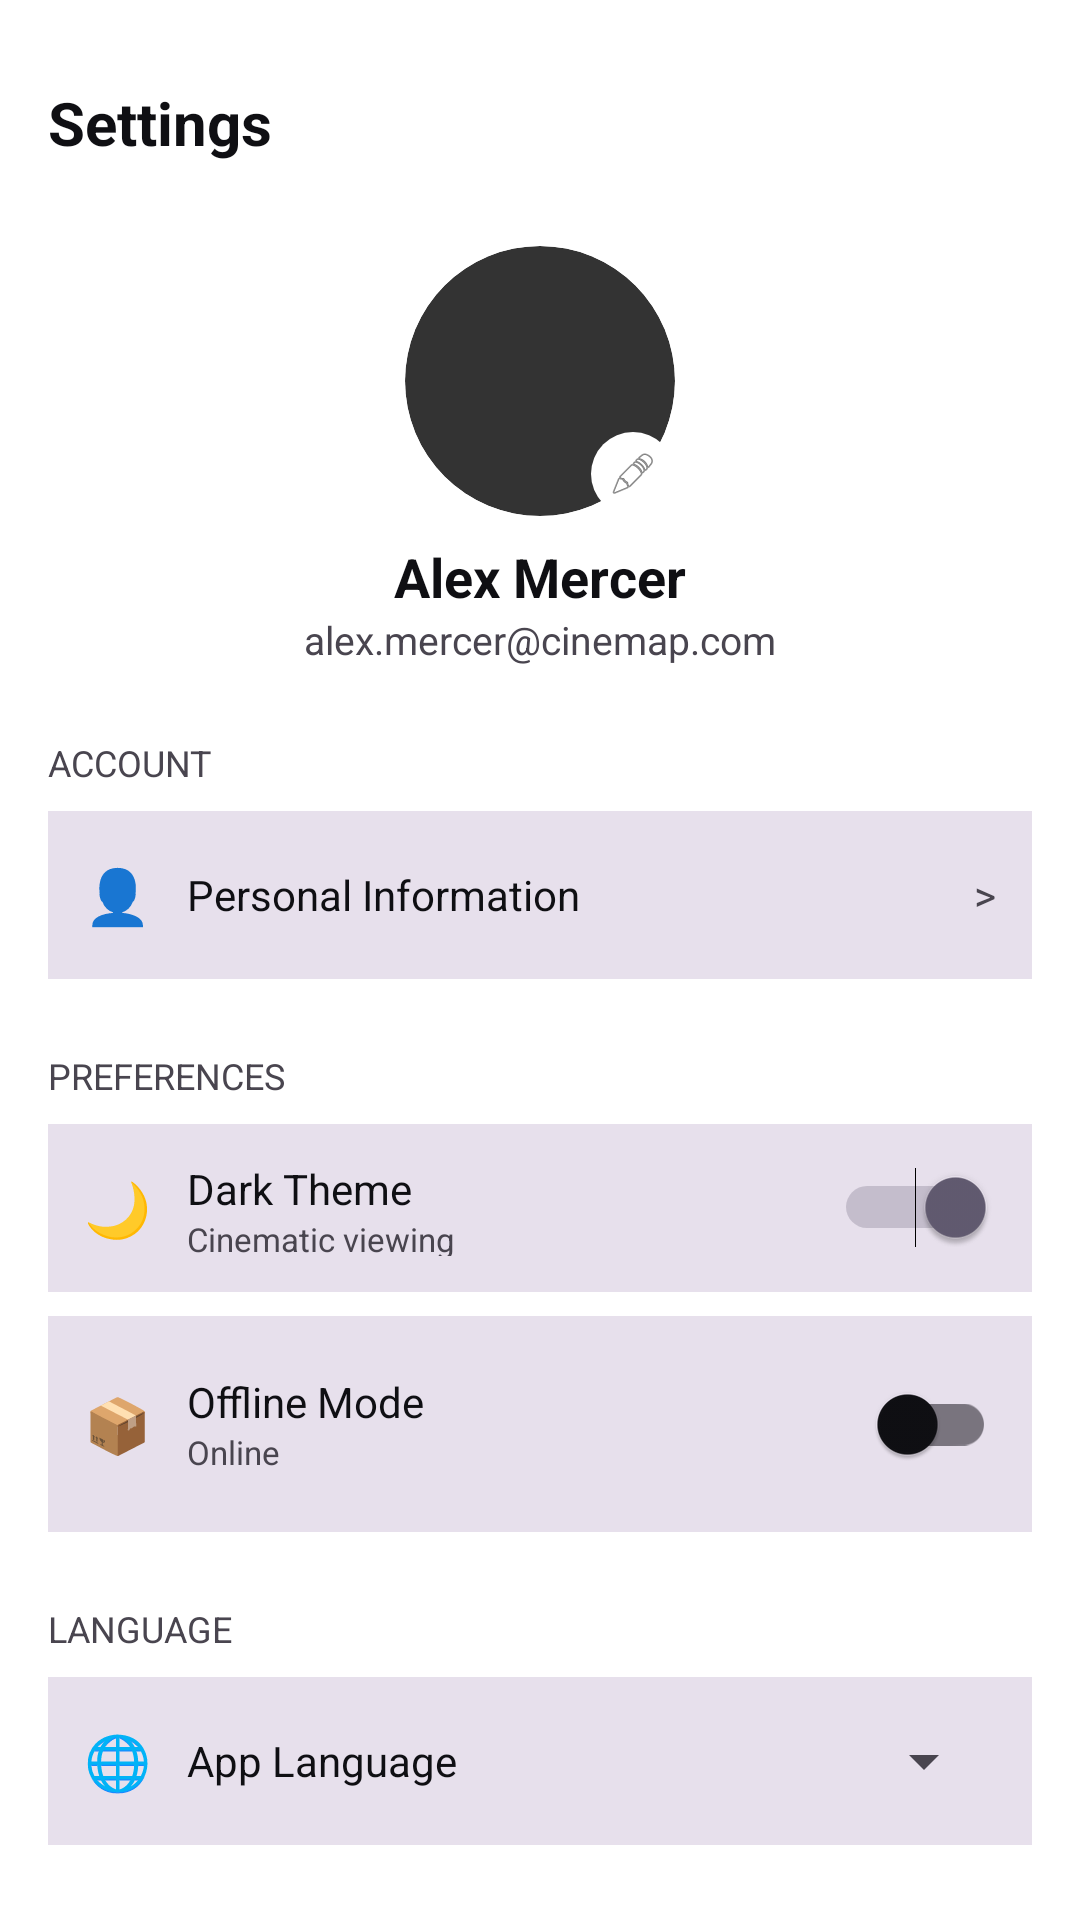

Named icons in this screenshot (1080px×1920px) and their centers, point (x, y):
edit: point (633, 474)
